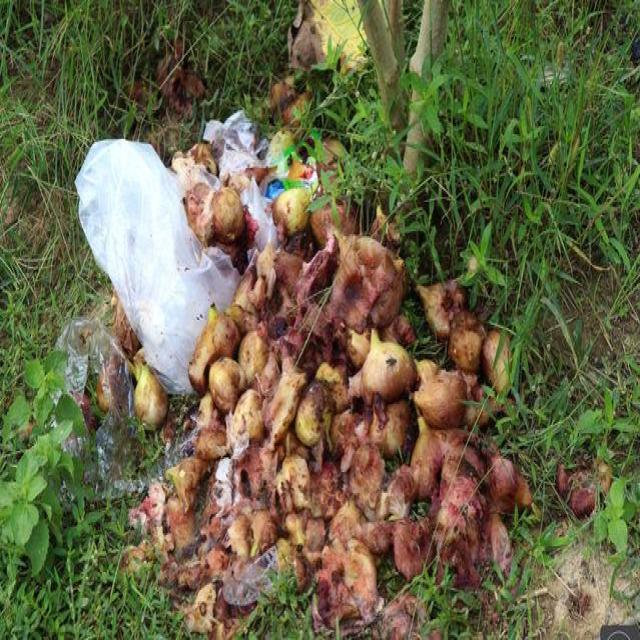Wet: (93, 139, 531, 637), (554, 442, 613, 520)
